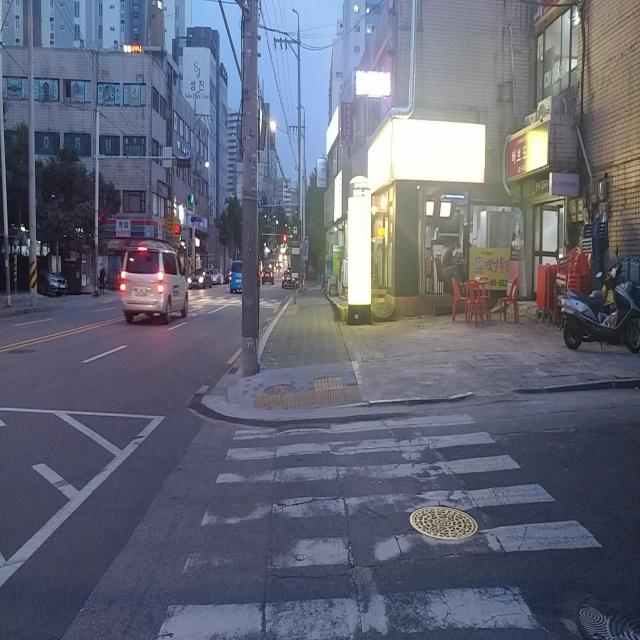횡단보도: (157, 410, 603, 639)
